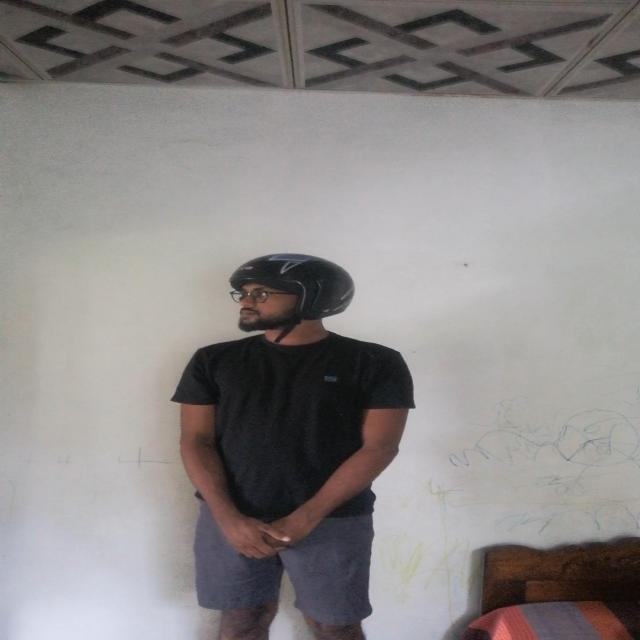Helmet_Wearer: (213, 254, 366, 349)
Person: (172, 252, 421, 640)
